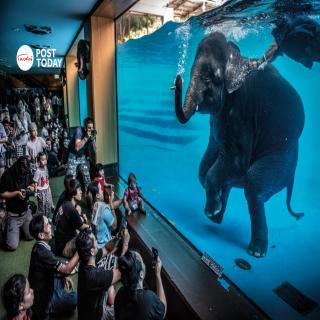Elephant: (170, 28, 310, 262)
